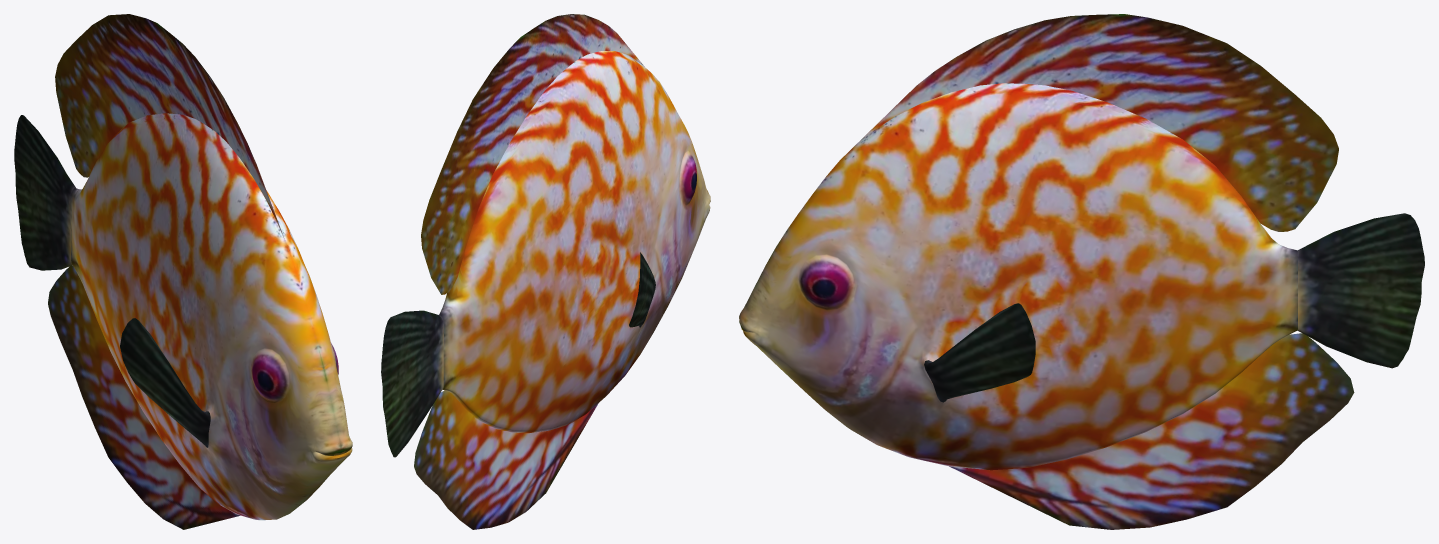
The model's file is fish.glb.
3 views of the same model, side by side, from view 1: azimuth 30°, elevation 25°; view 2: azimuth 150°, elevation 25°; view 3: azimuth 270°, elevation 25° (orthographic). The views are drawn at different scales.
Bounding box in the file's own units: 1.17 × 3.44 × 4.14.
Materials: 1 (1 with a texture image).
